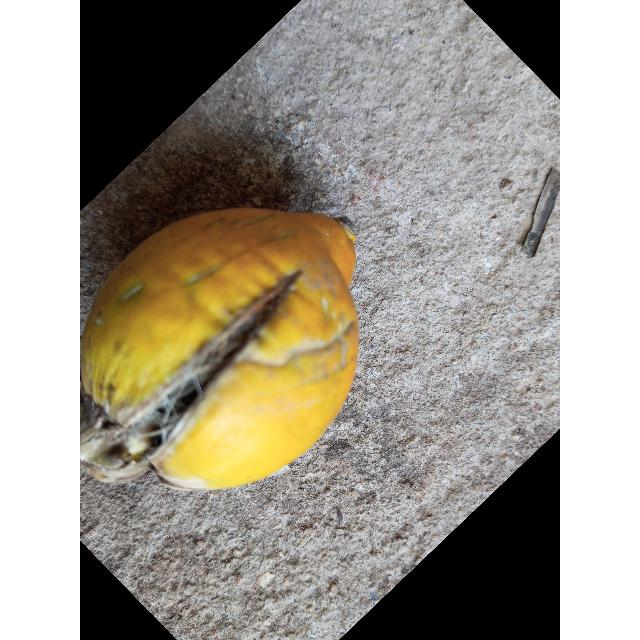damaged: (80, 208, 358, 490)
